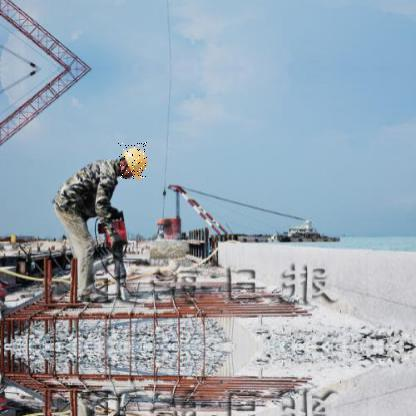safetyhelmet: (118, 142, 148, 180)
